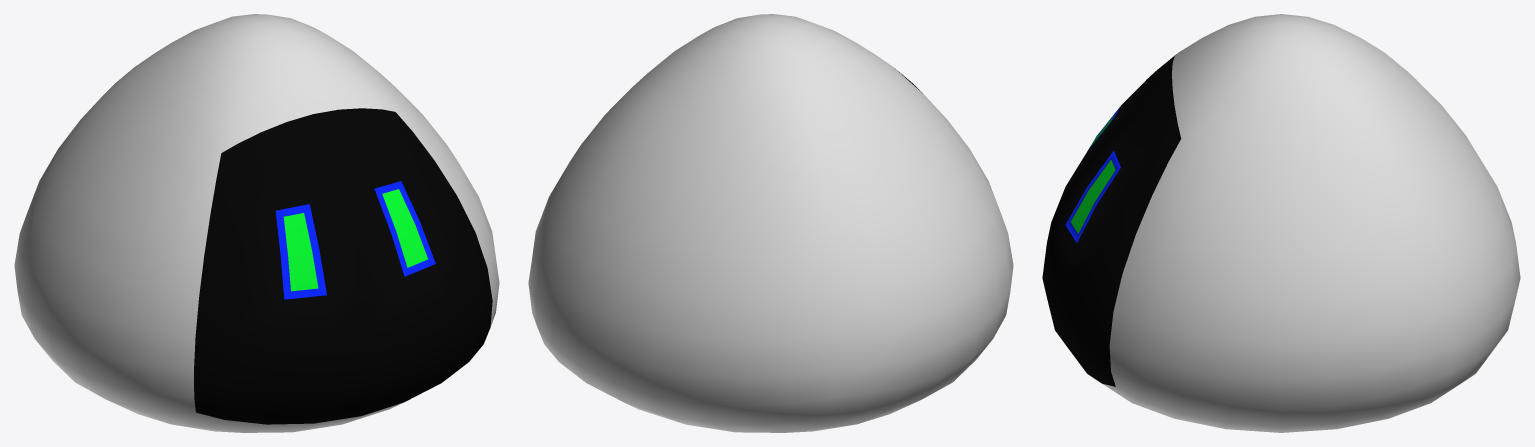
Rendered from HEADWITHFACE.fbx.
The picture shows the model from 3 angles, left to right: view 1: azimuth 30°, elevation 25°; view 2: azimuth 150°, elevation 25°; view 3: azimuth 270°, elevation 25°; orthographic projection.
Visible parts, largest first — view 1: Head; view 2: Head; view 3: Head.
Boxes of the visible parts, x1,y1,x2,y2 form: Head: [14, 14, 499, 432]; Head: [528, 14, 1013, 432]; Head: [1042, 14, 1520, 432].
Size of the model in its own units: 197 by 166 by 197.
